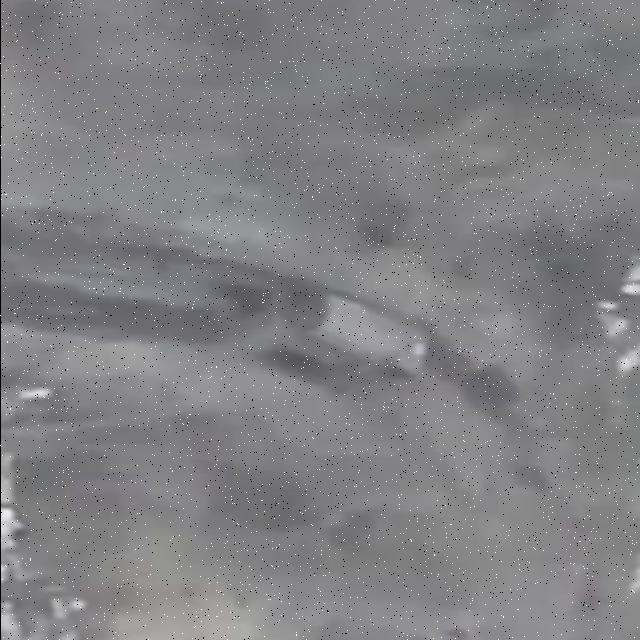TRUCK: (244, 288, 440, 386)
